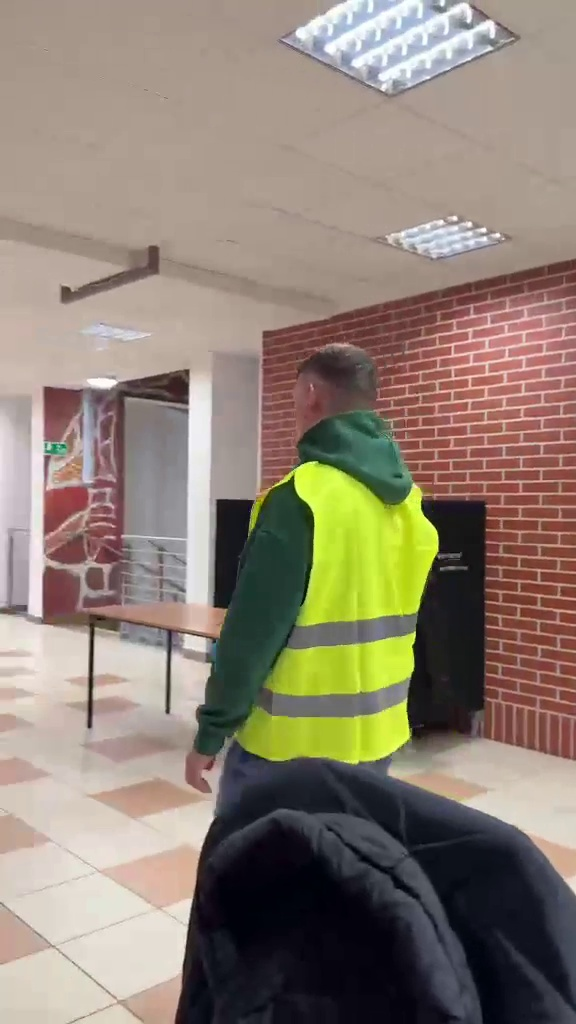vest: (193, 337, 437, 777)
